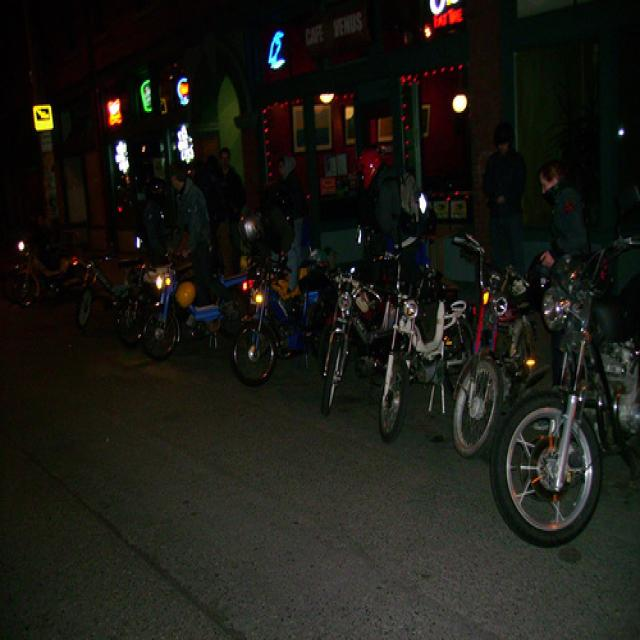Motorbike: (503, 220, 639, 560), (447, 256, 562, 456), (373, 245, 478, 421), (222, 243, 332, 393), (150, 261, 236, 382), (317, 256, 385, 398), (15, 219, 80, 307), (113, 237, 164, 347), (74, 247, 135, 319)
People: (354, 129, 428, 258), (482, 100, 536, 264), (169, 149, 221, 266), (539, 158, 592, 271), (267, 141, 319, 241), (208, 130, 261, 222), (146, 170, 186, 263)
